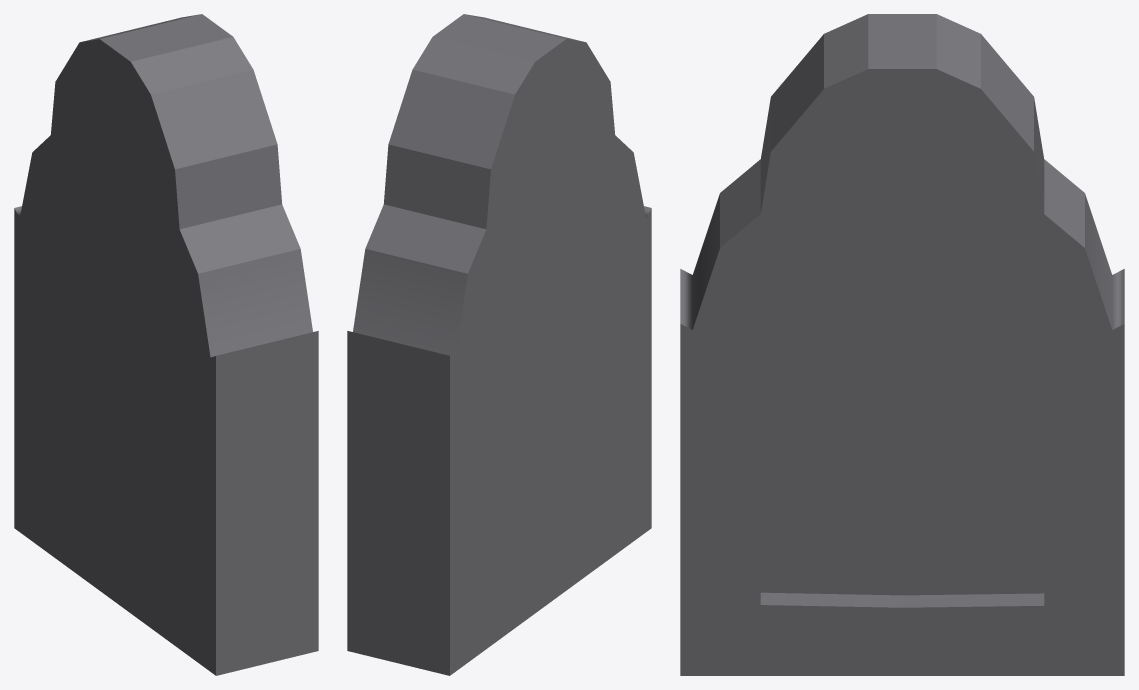
Rendered from Grave2.fbx.
3 views of the same model, side by side, from view 1: azimuth 30°, elevation 25°; view 2: azimuth 150°, elevation 25°; view 3: azimuth 270°, elevation 25° (orthographic). The views are drawn at different scales.
Visible parts, largest first — view 1: pCube4; view 2: pCube4; view 3: pCube4.
Boxes of the visible parts, left/top/right/bottom form: pCube4: left=14, top=14, right=318, bottom=675; pCube4: left=347, top=14, right=651, bottom=675; pCube4: left=680, top=14, right=1124, bottom=675.
Bounding box in the file's own units: 0.4502 × 2.31 × 1.53.
